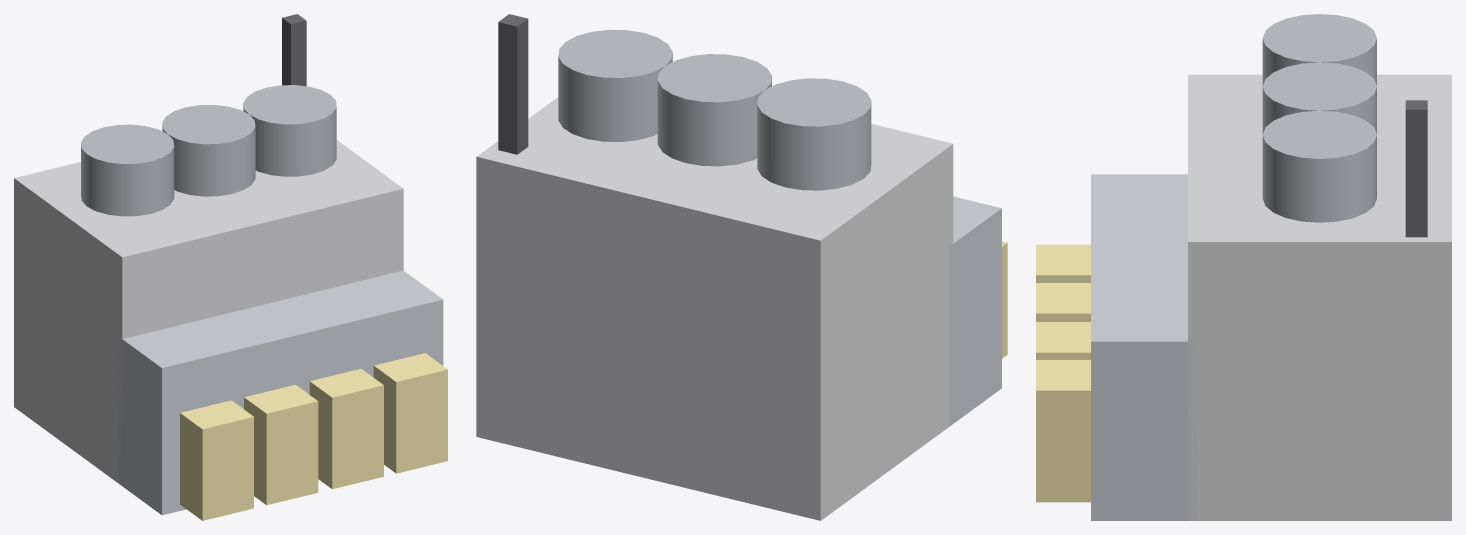
The model's file is fab_tool.gltf.
3 renders of one model, left to right at view 1: azimuth 30°, elevation 25°; view 2: azimuth 150°, elevation 25°; view 3: azimuth 270°, elevation 25°, orthographic. The views are drawn at different scales.
Parts seen in each view (by area): view 1: Body, EFEM, Port_1, Chamber_1, Port_3, Port_2, Chamber_3, Chamber_2, Port_4, SignalTower; view 2: Body, Chamber_1, Chamber_2, Chamber_3, EFEM, SignalTower, Port_1; view 3: Body, EFEM, Chamber_3, Port_4, Chamber_1, Chamber_2, SignalTower, Port_1, Port_2, Port_3.
Part boxes in pixels (left/top/right/bottom): Body: left=14, top=140, right=403, bottom=483; EFEM: left=118, top=270, right=443, bottom=515; Port_1: left=180, top=400, right=253, bottom=520; Chamber_1: left=81, top=124, right=174, bottom=216; Port_3: left=309, top=368, right=383, bottom=489; Port_2: left=244, top=384, right=318, bottom=505; Chamber_3: left=243, top=85, right=336, bottom=176; Chamber_2: left=162, top=105, right=255, bottom=196; Port_4: left=373, top=353, right=447, bottom=473; SignalTower: left=282, top=14, right=306, bottom=86; Body: left=476, top=97, right=953, bottom=520; Chamber_1: left=757, top=78, right=871, bottom=190; Chamber_2: left=657, top=54, right=771, bottom=166; Chamber_3: left=558, top=29, right=672, bottom=141; EFEM: left=949, top=196, right=1001, bottom=426; SignalTower: left=498, top=14, right=528, bottom=154; Port_1: left=1002, top=241, right=1007, bottom=358; Body: left=1188, top=74, right=1451, bottom=520; EFEM: left=1091, top=174, right=1196, bottom=520; Chamber_3: left=1262, top=110, right=1376, bottom=222; Port_4: left=1036, top=360, right=1090, bottom=502; Chamber_1: left=1262, top=14, right=1376, bottom=85; Chamber_2: left=1262, top=62, right=1376, bottom=133; SignalTower: left=1405, top=100, right=1427, bottom=237; Port_1: left=1036, top=244, right=1090, bottom=282; Port_2: left=1036, top=283, right=1090, bottom=321; Port_3: left=1036, top=322, right=1090, bottom=359.
Size of the model in its own units: 0.9 by 1.02 by 0.945.
